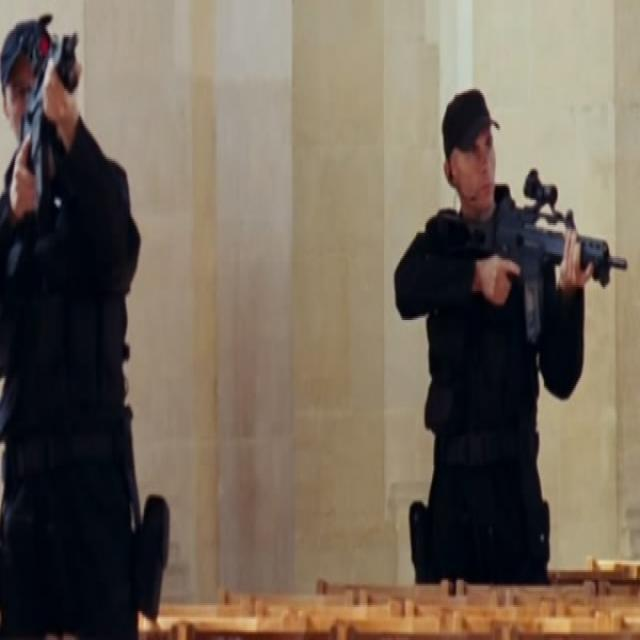rifle: (427, 180, 629, 347), (21, 28, 83, 228)
